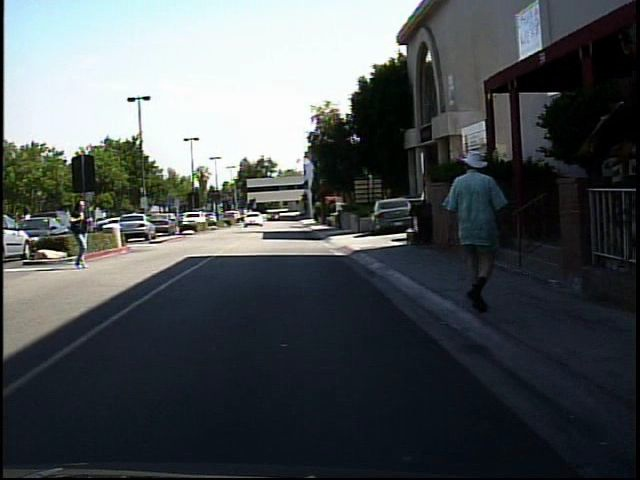person: (438, 137, 512, 317), (65, 193, 98, 273), (163, 206, 178, 230)
